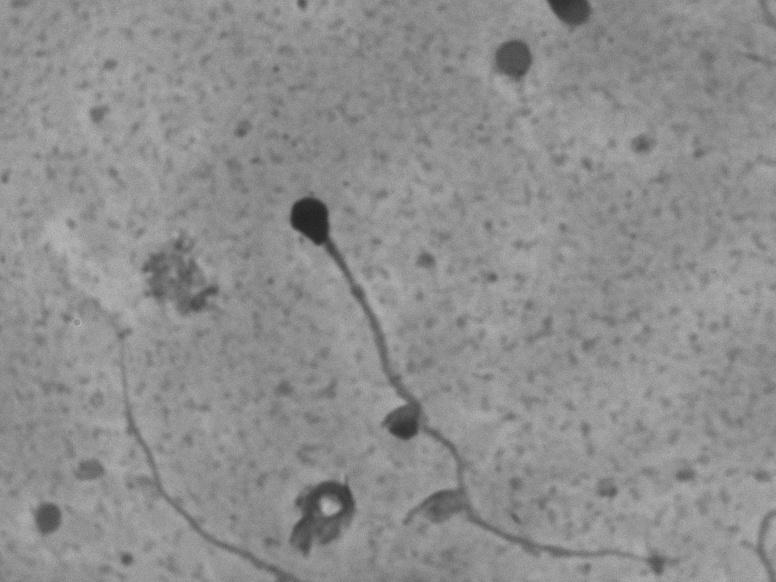Abnormal: (260, 172, 701, 577)
